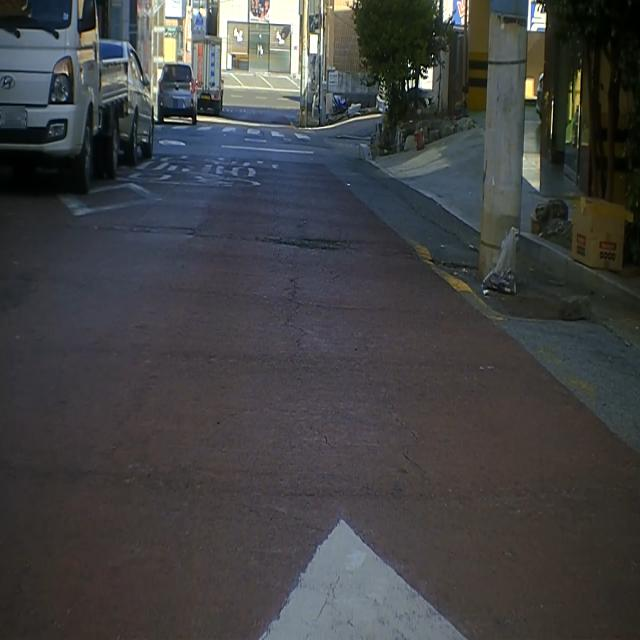Pothole: (248, 221, 368, 265)
